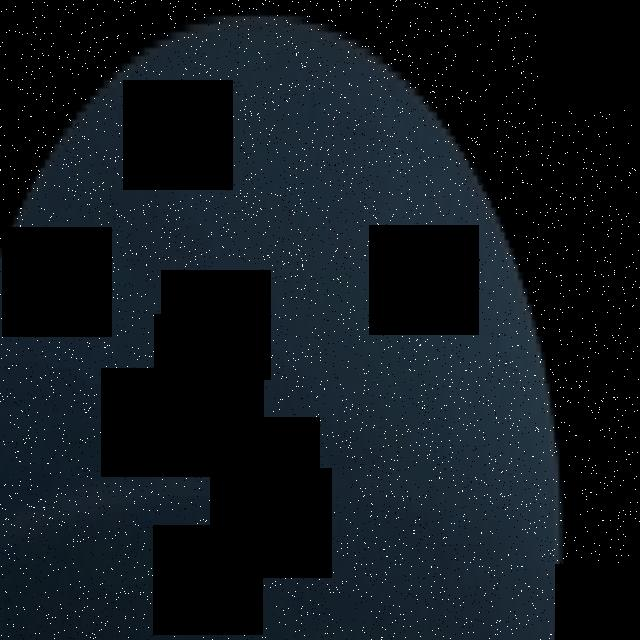Uranus: (0, 8, 568, 640)
